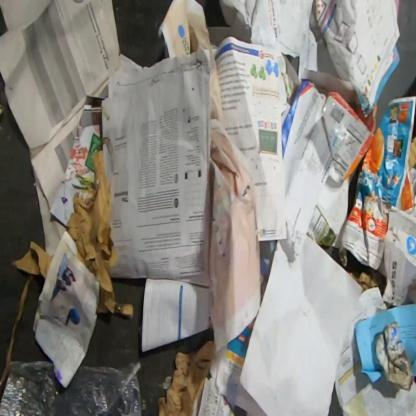cardboard: (66, 150, 134, 318), (282, 67, 356, 197), (322, 91, 378, 183), (158, 340, 214, 416), (374, 321, 415, 392), (316, 166, 350, 250), (12, 240, 54, 278), (348, 268, 386, 296)
soft_plastic: (0, 360, 143, 415)
